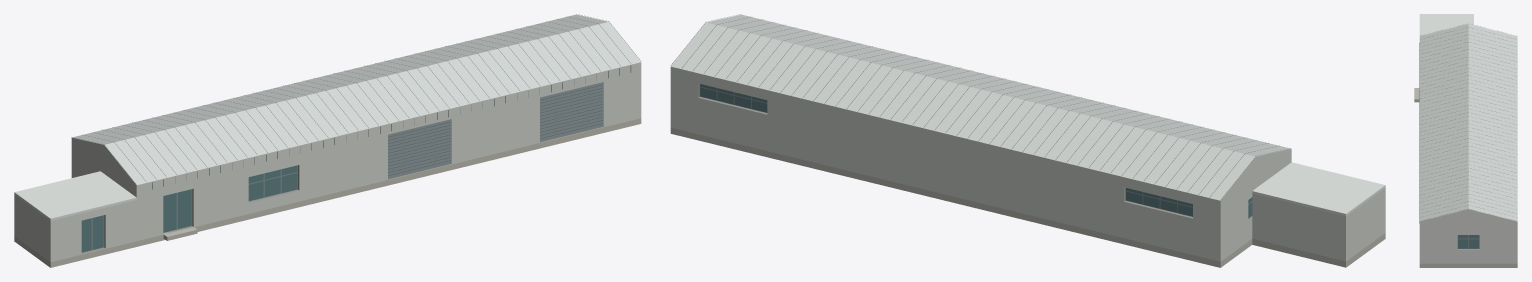
3 views of the same model, side by side, from view 1: azimuth 30°, elevation 25°; view 2: azimuth 150°, elevation 25°; view 3: azimuth 270°, elevation 25° (orthographic). The views are drawn at different scales.
Parts seen in each view (by area): view 1: lakeside-annex-1__paleLongGable, lakeside-annex-1__longLakesideHall_face2, lakeside-annex-1__longLakesideHall_face2_service, lakeside-annex-1__lowWestRoof, lakeside-annex-1__longLakesideHallBase, lakeside-annex-1__paleLongGableSeams, lakeside-annex-1__lowWestOffset_face2, lakeside-annex-1__serviceDoorSlats, lakeside-annex-1__lowWestOffset_face3, lakeside-annex-1__longLakesideHall_face3, lakeside-annex-1__longLakesideHall_face2_glass, lakeside-annex-1__frame (+5 smaller); view 2: lakeside-annex-1__paleLongGable, lakeside-annex-1__longLakesideHall_face0, lakeside-annex-1__lowWestOffset_face0, lakeside-annex-1__lowWestRoof, lakeside-annex-1__longLakesideHallBase, lakeside-annex-1__paleLongGableSeams, lakeside-annex-1__longLakesideHall_face3, lakeside-annex-1__lowWestOffset_face3, lakeside-annex-1__longLakesideHall_face0_glass, lakeside-annex-1__lowWestOffsetBase, lakeside-annex-1__paleLongGableEnd, lakeside-annex-1__frame; view 3: lakeside-annex-1__paleLongGable, lakeside-annex-1__longLakesideHall_face1, lakeside-annex-1__paleLongGableSeams, lakeside-annex-1__lowWestRoof, lakeside-annex-1__paleLongGableEnd, lakeside-annex-1__longLakesideHallBase, lakeside-annex-1__longLakesideHall_face1_glass, lakeside-annex-1__upperWallPanelSeams, lakeside-annex-1__frame, lakeside-annex-1__entranceThreshold_0.
Part boxes in pixels (x1=…): lakeside-annex-1__paleLongGable: x1=72, y1=14, x2=640, y2=184; lakeside-annex-1__longLakesideHall_face2: x1=136, y1=62, x2=641, y2=240; lakeside-annex-1__longLakesideHall_face2_service: x1=388, y1=82, x2=602, y2=178; lakeside-annex-1__lowWestRoof: x1=14, y1=171, x2=136, y2=220; lakeside-annex-1__longLakesideHallBase: x1=136, y1=118, x2=641, y2=246; lakeside-annex-1__paleLongGableSeams: x1=71, y1=14, x2=641, y2=184; lakeside-annex-1__lowWestOffset_face2: x1=50, y1=200, x2=136, y2=261; lakeside-annex-1__serviceDoorSlats: x1=388, y1=84, x2=602, y2=175; lakeside-annex-1__lowWestOffset_face3: x1=14, y1=194, x2=50, y2=261; lakeside-annex-1__longLakesideHall_face3: x1=71, y1=138, x2=136, y2=197; lakeside-annex-1__longLakesideHall_face2_glass: x1=248, y1=165, x2=297, y2=200; lakeside-annex-1__frame: x1=82, y1=82, x2=602, y2=252; lakeside-annex-1__paleLongGable: x1=671, y1=14, x2=1290, y2=200; lakeside-annex-1__longLakesideHall_face0: x1=670, y1=66, x2=1220, y2=261; lakeside-annex-1__lowWestOffset_face0: x1=1252, y1=193, x2=1345, y2=261; lakeside-annex-1__lowWestRoof: x1=1252, y1=162, x2=1385, y2=216; lakeside-annex-1__longLakesideHallBase: x1=670, y1=127, x2=1252, y2=267; lakeside-annex-1__paleLongGableSeams: x1=670, y1=14, x2=1290, y2=200; lakeside-annex-1__longLakesideHall_face3: x1=1220, y1=149, x2=1291, y2=261; lakeside-annex-1__lowWestOffset_face3: x1=1346, y1=188, x2=1385, y2=261; lakeside-annex-1__longLakesideHall_face0_glass: x1=700, y1=84, x2=1192, y2=216; lakeside-annex-1__lowWestOffsetBase: x1=1252, y1=233, x2=1385, y2=267; lakeside-annex-1__paleLongGableEnd: x1=1221, y1=149, x2=1290, y2=199; lakeside-annex-1__frame: x1=699, y1=84, x2=1252, y2=218; lakeside-annex-1__paleLongGable: x1=1419, y1=24, x2=1517, y2=221; lakeside-annex-1__longLakesideHall_face1: x1=1419, y1=221, x2=1517, y2=263; lakeside-annex-1__paleLongGableSeams: x1=1420, y1=24, x2=1517, y2=220; lakeside-annex-1__lowWestRoof: x1=1419, y1=14, x2=1473, y2=35; lakeside-annex-1__paleLongGableEnd: x1=1420, y1=209, x2=1516, y2=221; lakeside-annex-1__longLakesideHallBase: x1=1419, y1=263, x2=1517, y2=267; lakeside-annex-1__longLakesideHall_face1_glass: x1=1458, y1=235, x2=1479, y2=248; lakeside-annex-1__upperWallPanelSeams: x1=1419, y1=42, x2=1419, y2=223; lakeside-annex-1__frame: x1=1457, y1=235, x2=1479, y2=248; lakeside-annex-1__entranceThreshold_0: x1=1414, y1=88, x2=1419, y2=102.
Size of the model in its own units: 46.67 by 5.93 by 9.41.
